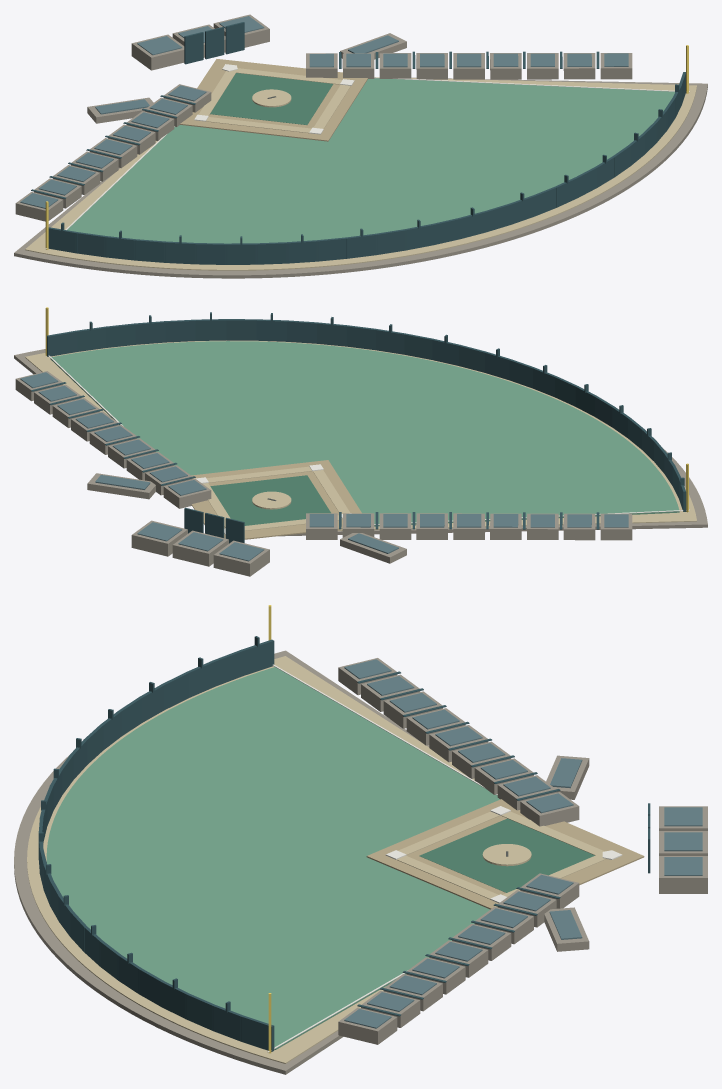
The model's file is baseball_stadium.orig.glb.
3 renders of one model, top to bottom at view 1: azimuth 30°, elevation 25°; view 2: azimuth 150°, elevation 25°; view 3: azimuth 270°, elevation 25°, orthographic. The views are drawn at different scales.
Visible parts, largest first — view 1: Baseball stadium; view 2: Baseball stadium; view 3: Baseball stadium.
Part boxes in pixels (x1=…): Baseball stadium: x1=14, y1=14, x2=707, y2=278; Baseball stadium: x1=14, y1=307, x2=707, y2=576; Baseball stadium: x1=14, y1=605, x2=707, y2=1074.
Size of the model in its own units: 305 by 22 by 212.
